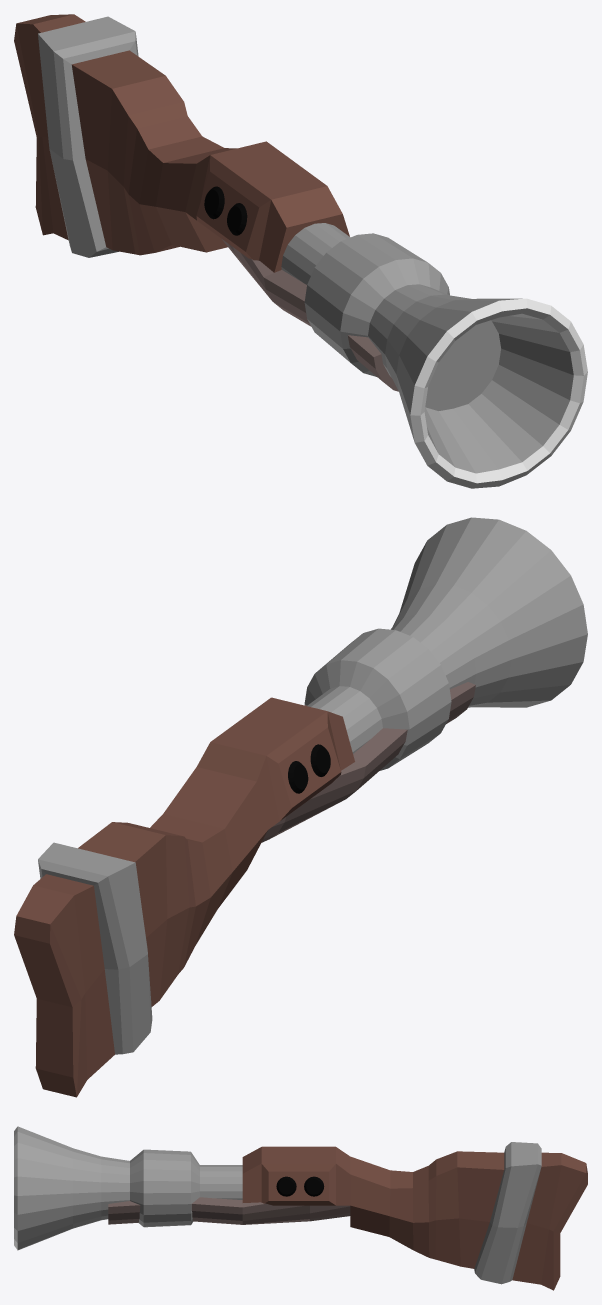
File: Blunderbuss.fbx
The picture shows the model from 3 angles, top to bottom: view 1: azimuth 30°, elevation 25°; view 2: azimuth 150°, elevation 25°; view 3: azimuth 270°, elevation 25°; orthographic projection. The views are drawn at different scales.
Parts seen in each view (by area): view 1: Cube; view 2: Cube; view 3: Cube.
Boxes of the visible parts, x1=… form: Cube: x1=14, y1=14, x2=587, y2=488; Cube: x1=14, y1=517, x2=587, y2=1097; Cube: x1=14, y1=1126, x2=587, y2=1290.
Size of the model in its own units: 16.14 by 21.9 by 74.02.
